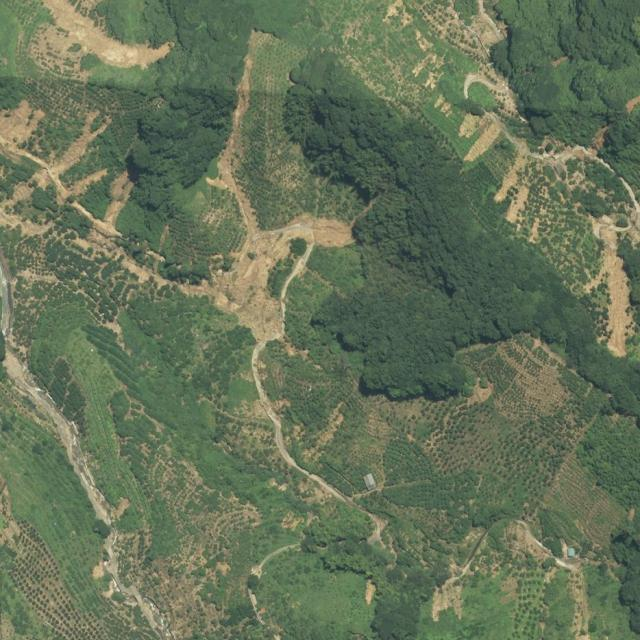landslide: (208, 190, 355, 339), (586, 228, 630, 359), (468, 0, 508, 56)
